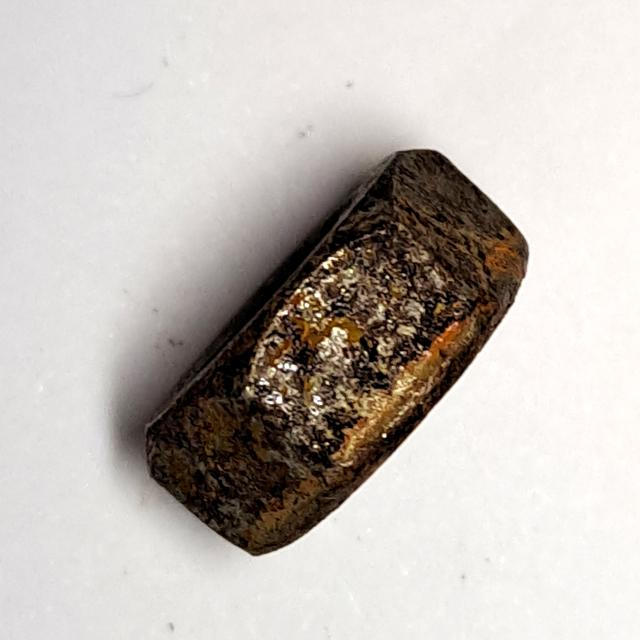Side_Rust: (126, 137, 539, 566)
